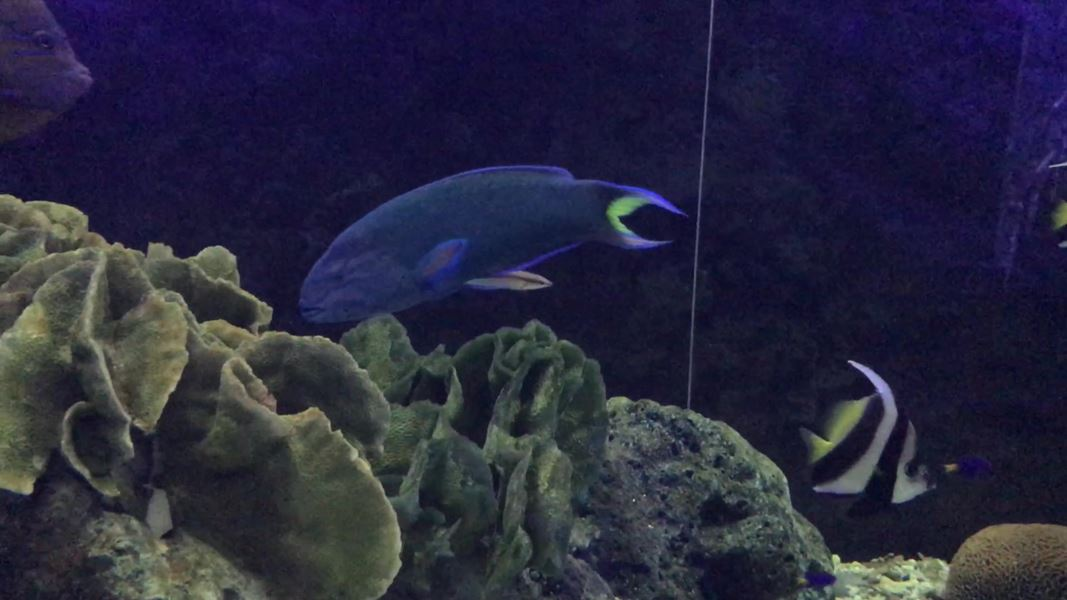Bluesteak cleaner wrasse: (458, 264, 562, 303)
